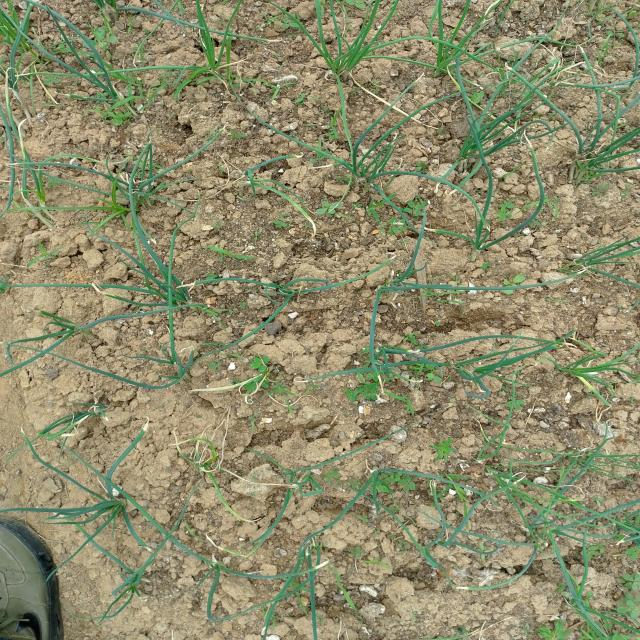Spring Onion: (65, 162, 203, 234), (42, 382, 135, 472), (252, 518, 351, 595), (105, 260, 214, 324), (312, 132, 410, 202), (533, 335, 640, 399), (309, 20, 383, 111), (75, 43, 150, 128), (428, 104, 528, 167), (240, 276, 361, 328), (47, 472, 151, 526), (385, 520, 495, 566), (466, 212, 542, 278), (130, 330, 215, 386), (553, 230, 635, 288), (416, 338, 502, 389), (174, 40, 249, 96), (566, 126, 623, 197), (43, 292, 92, 374), (418, 24, 471, 95), (539, 518, 610, 566), (480, 449, 534, 507), (0, 0, 33, 89), (354, 459, 414, 498)
